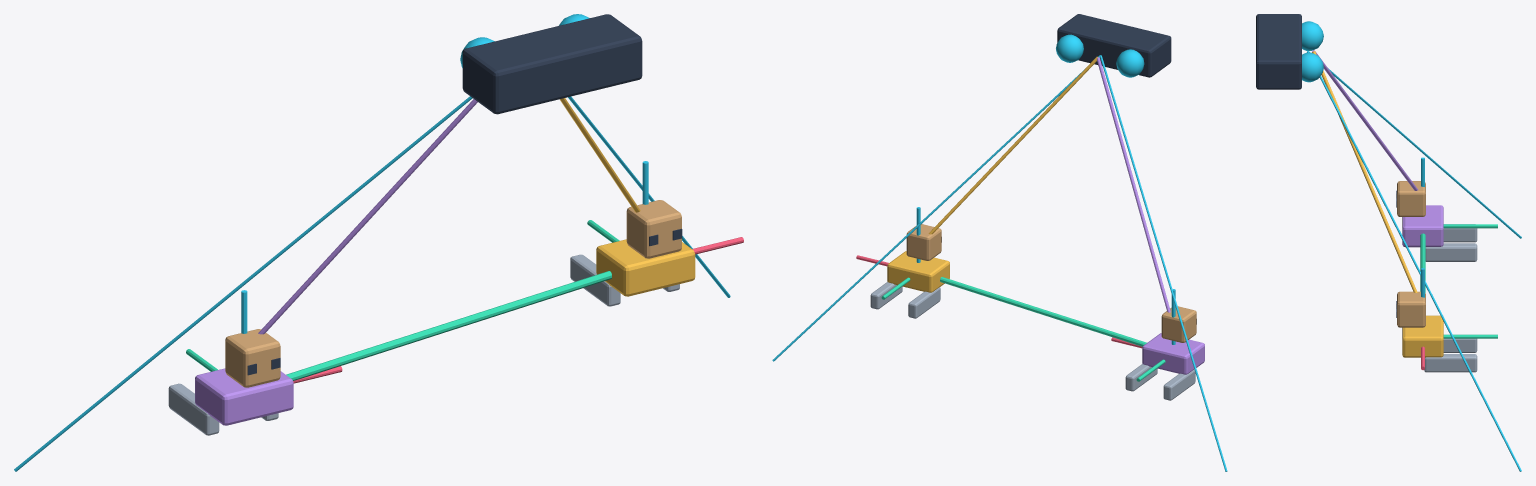
Rendered from hifi.glb.
3 renders of one model, left to right at view 1: azimuth 30°, elevation 25°; view 2: azimuth 150°, elevation 25°; view 3: azimuth 270°, elevation 25°, orthographic. The views are drawn at different scales.
Visible parts, largest first — view 1: Head camera rig, Palm, Palm.001, Relative transform, Fiducial, Fiducial.001, View boundary, Left observation, Finger, Finger.002, Right observation, View boundary.001; view 2: Head camera rig, Palm.001, Palm, Relative transform, View boundary, Left observation, View boundary.001, Fiducial.001, Fiducial, Right observation, Lens, Lens.001 (+4 smaller); view 3: Head camera rig, Palm.001, Palm, View boundary.001, Fiducial.001, Fiducial, Finger.001, Finger.003, Right observation, View boundary, Left observation, Lens.001 (+3 smaller).
Part boxes in pixels (x1,y1,x2,y2): Head camera rig: [462, 14, 642, 114]; Palm: [195, 368, 293, 425]; Palm.001: [596, 239, 695, 296]; Relative transform: [286, 271, 611, 380]; Fiducial: [225, 329, 280, 387]; Fiducial.001: [626, 200, 681, 258]; View boundary: [14, 96, 472, 471]; Left observation: [258, 99, 477, 334]; Finger: [168, 383, 219, 435]; Finger.002: [570, 254, 620, 306]; Right observation: [560, 98, 640, 212]; View boundary.001: [568, 96, 730, 297]; Head camera rig: [1057, 14, 1171, 77]; Palm.001: [887, 251, 949, 292]; Palm: [1142, 333, 1204, 374]; Relative transform: [940, 277, 1146, 346]; View boundary: [1100, 55, 1227, 471]; Left observation: [1097, 57, 1170, 312]; View boundary.001: [772, 55, 1100, 361]; Fiducial.001: [906, 224, 941, 260]; Fiducial: [1161, 306, 1196, 342]; Right observation: [928, 56, 1097, 234]; Lens: [1116, 49, 1144, 77]; Lens.001: [1056, 34, 1083, 62]; Head camera rig: [1256, 14, 1301, 89]; Palm.001: [1402, 315, 1443, 357]; Palm: [1402, 205, 1443, 247]; View boundary.001: [1307, 51, 1521, 471]; Fiducial.001: [1397, 291, 1425, 327]; Fiducial: [1397, 181, 1425, 216]; Finger.001: [1425, 243, 1477, 261]; Finger.003: [1424, 354, 1477, 372]; Right observation: [1312, 51, 1417, 292]; View boundary: [1307, 51, 1521, 238]; Left observation: [1312, 50, 1418, 190]; Lens.001: [1302, 52, 1323, 82].
Bounding box in the file's own units: 4.82 × 3.05 × 2.31.
